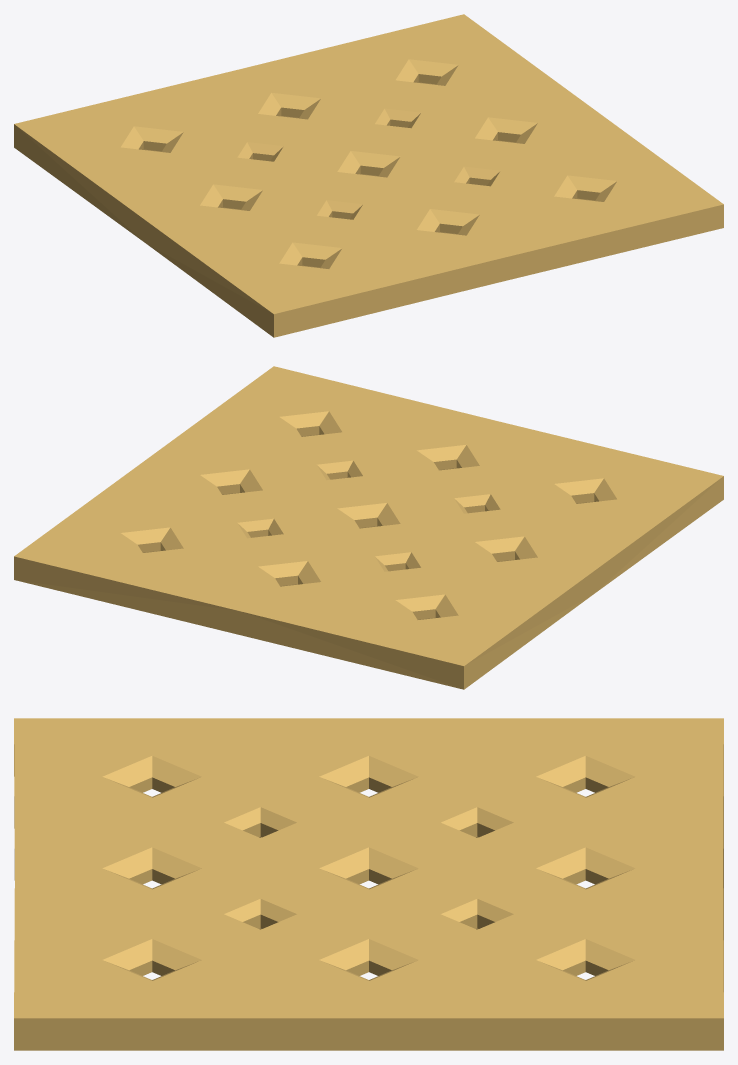
File: cracker.glb
The picture shows the model from 3 angles, top to bottom: view 1: azimuth 30°, elevation 25°; view 2: azimuth 150°, elevation 25°; view 3: azimuth 270°, elevation 25°; orthographic projection. The views are drawn at different scales.
Visible parts, largest first — view 1: Cube.001; view 2: Cube.001; view 3: Cube.001.
Part boxes in pixels (left/top/right/bottom): Cube.001: left=14, top=14, right=723, bottom=337; Cube.001: left=14, top=366, right=723, bottom=689; Cube.001: left=14, top=718, right=723, bottom=1050.
Bounding box in the file's own units: 5 × 0.25 × 5.
